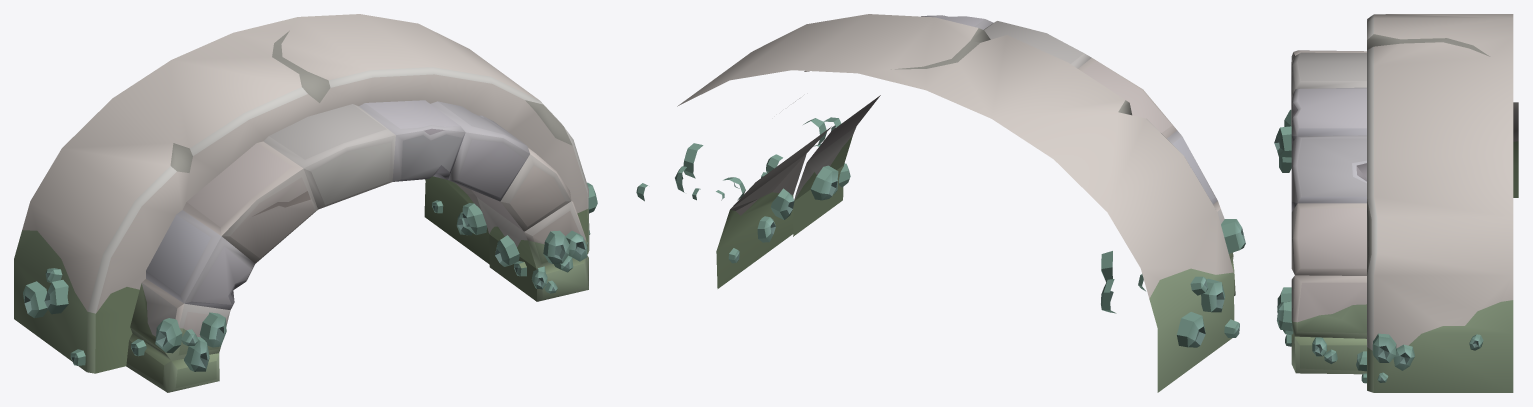
The model's file is Culvert_0.glb.
3 views of the same model, side by side, from view 1: azimuth 30°, elevation 25°; view 2: azimuth 150°, elevation 25°; view 3: azimuth 270°, elevation 25° (orthographic). The views are drawn at different scales.
Parts seen in each view (by area): view 1: Culvert; view 2: Culvert; view 3: Culvert.
Boxes of the visible parts, bbox=[...] form: Culvert: bbox=[14, 14, 597, 392]; Culvert: bbox=[636, 14, 1245, 392]; Culvert: bbox=[1274, 14, 1518, 392].
Size of the model in its own units: 2.58 by 1.09 by 1.08.
